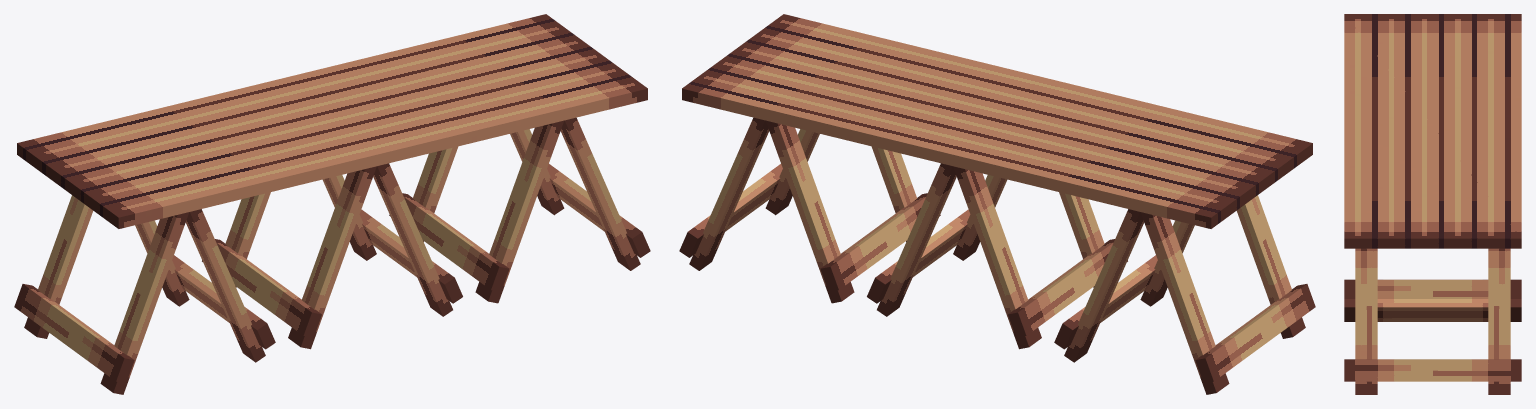
Rendered from long-table.gltf.
3 renders of one model, left to right at view 1: azimuth 30°, elevation 25°; view 2: azimuth 150°, elevation 25°; view 3: azimuth 270°, elevation 25°, orthographic. The views are drawn at different scales.
Visible parts, largest first — view 1: cube (×19); view 2: cube (×19); view 3: cube (×6).
Part boxes in pixels (box(x1,y1,x2,y2)): cube (×19): box(14, 14, 650, 394); cube (×19): box(679, 14, 1315, 394); cube (×6): box(1344, 14, 1521, 394).
Size of the model in its own units: 3.03 by 1 by 1.
Materials: 1 (1 with a texture image).
